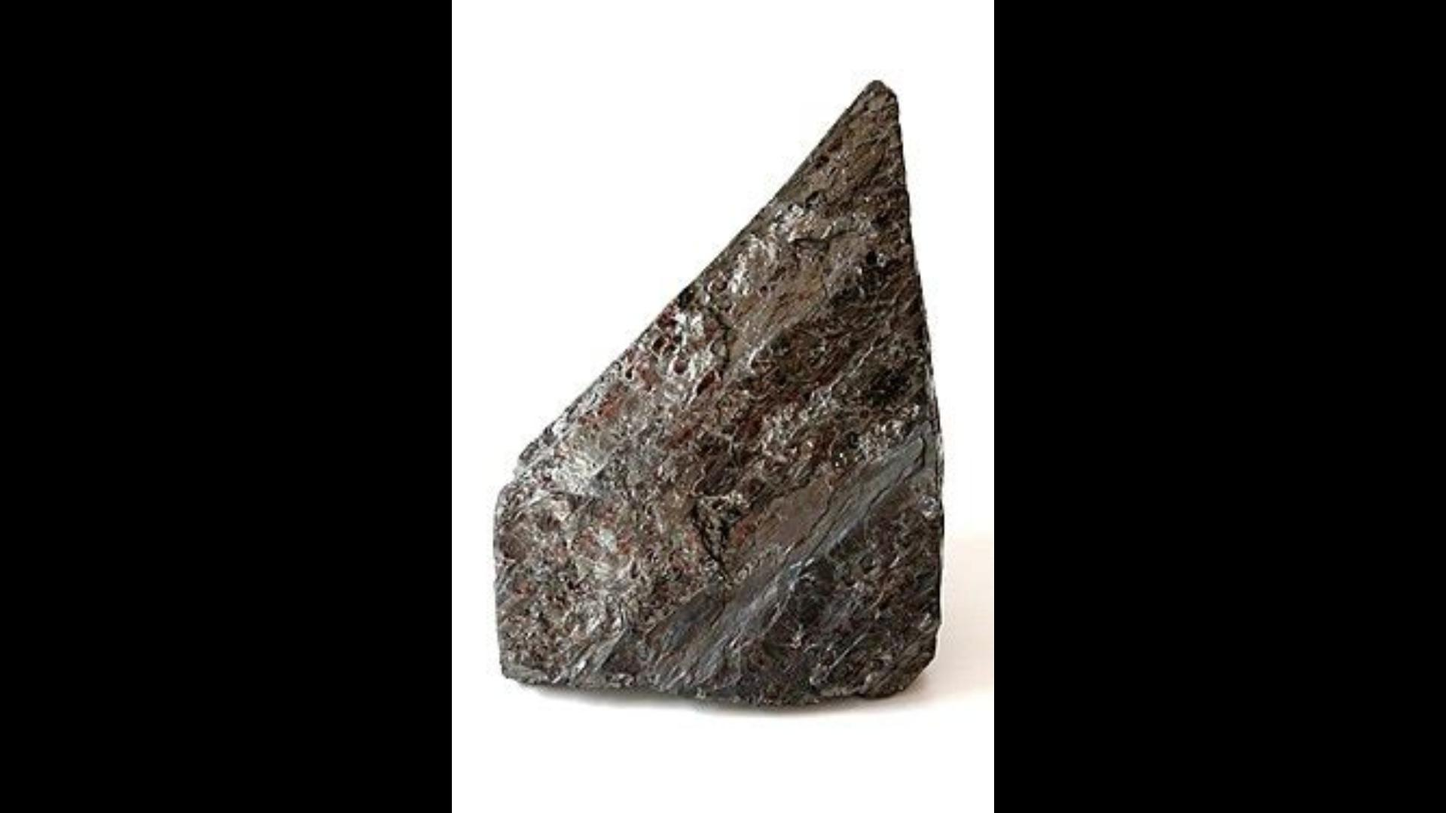rock: (495, 82, 938, 702)
